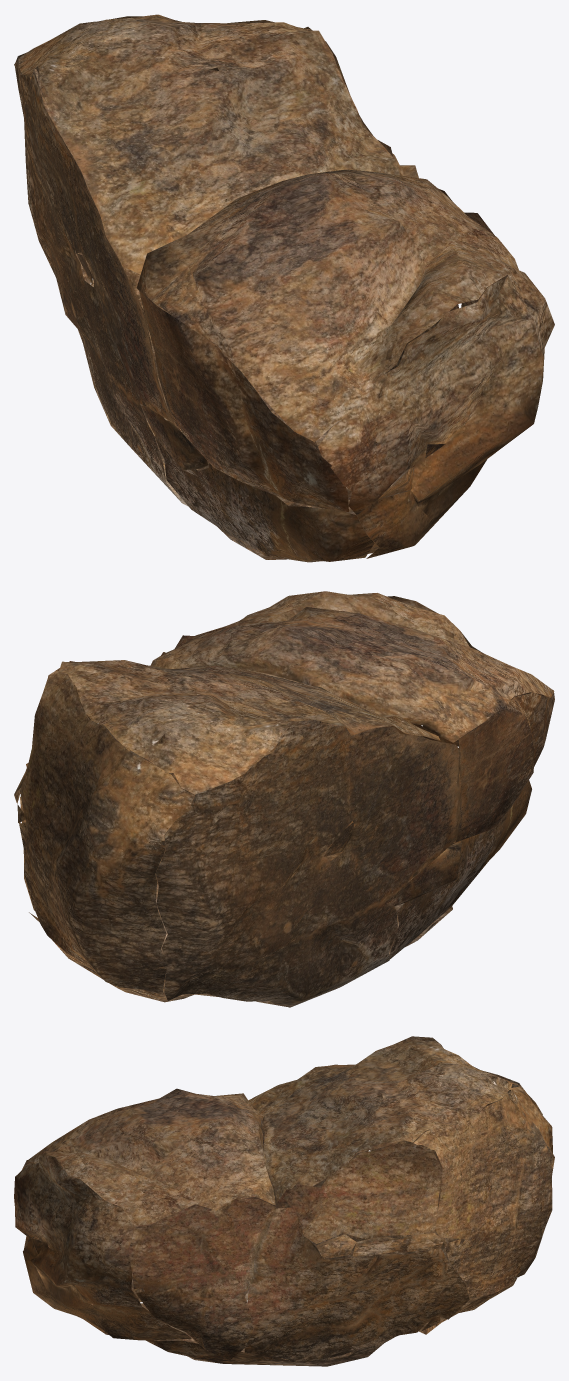
Rendered from namaqualand_boulder_06.glb.
3 views of the same model, one above another, from view 1: azimuth 30°, elevation 25°; view 2: azimuth 150°, elevation 25°; view 3: azimuth 270°, elevation 25° (orthographic). The views are drawn at different scales.
Visible parts, largest first — view 1: namaqualand_boulder_06; view 2: namaqualand_boulder_06; view 3: namaqualand_boulder_06.
Boxes of the visible parts, x1=… form: namaqualand_boulder_06: x1=14, y1=14, x2=554, y2=562; namaqualand_boulder_06: x1=14, y1=591, x2=554, y2=1007; namaqualand_boulder_06: x1=14, y1=1036, x2=554, y2=1366.
Bounding box in the file's own units: 0.6703 × 0.6432 × 1.2.
1 material, 1 textured.
